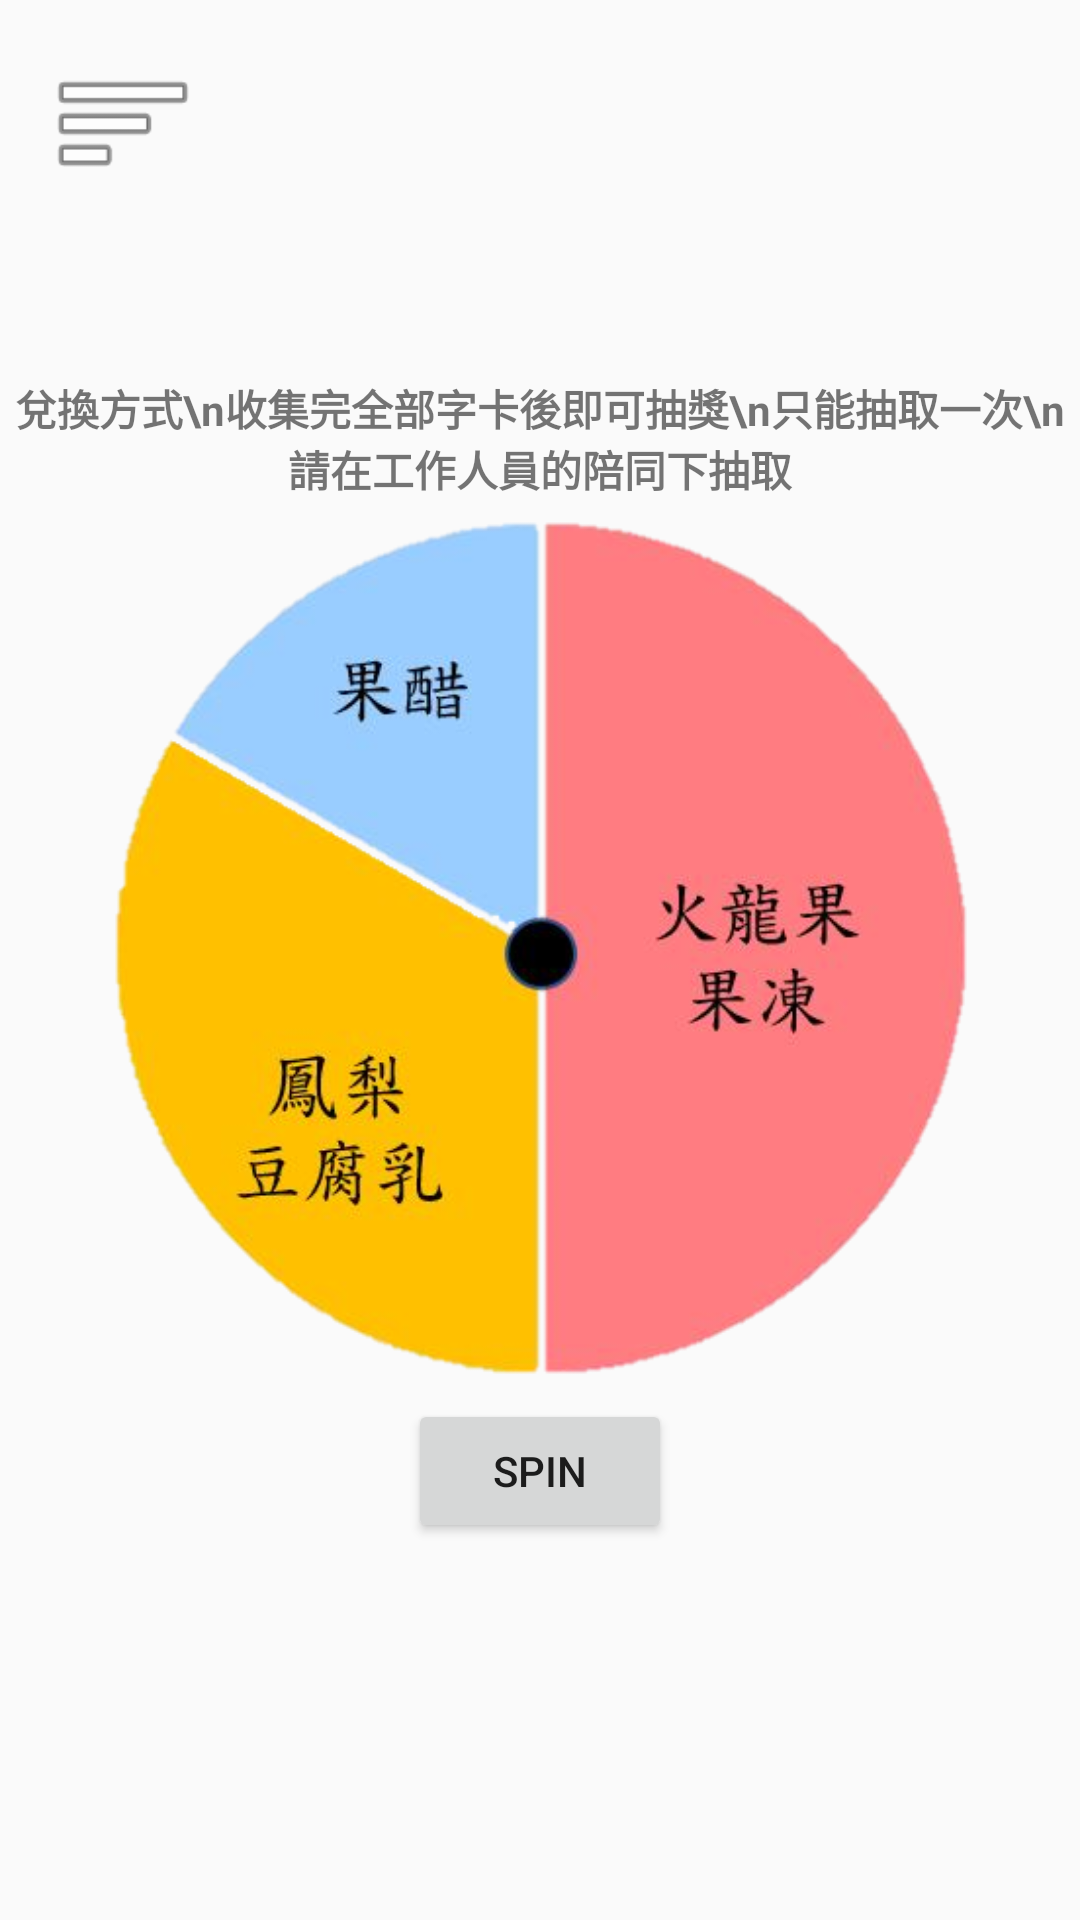

Screen size 1080 x 1920. Icon name, then its center in pixels as (x,y):
sort by size: (123,124)
